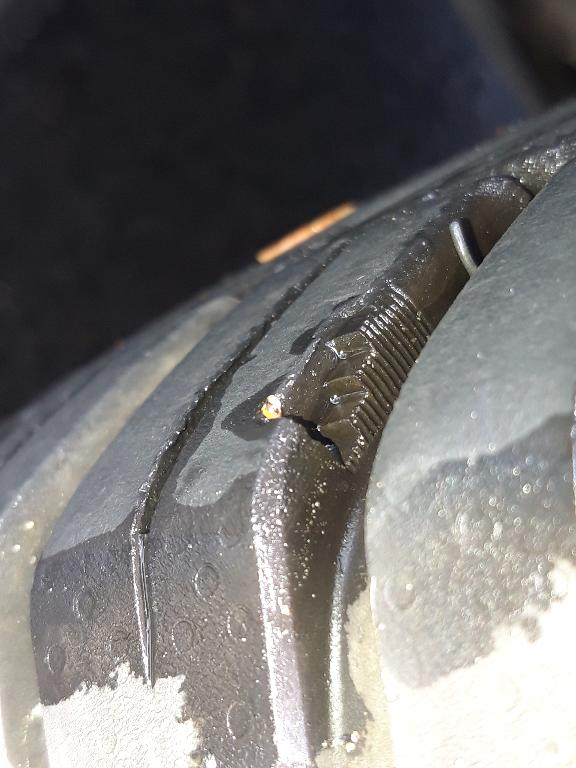temoin:80: (255, 280, 440, 482)
